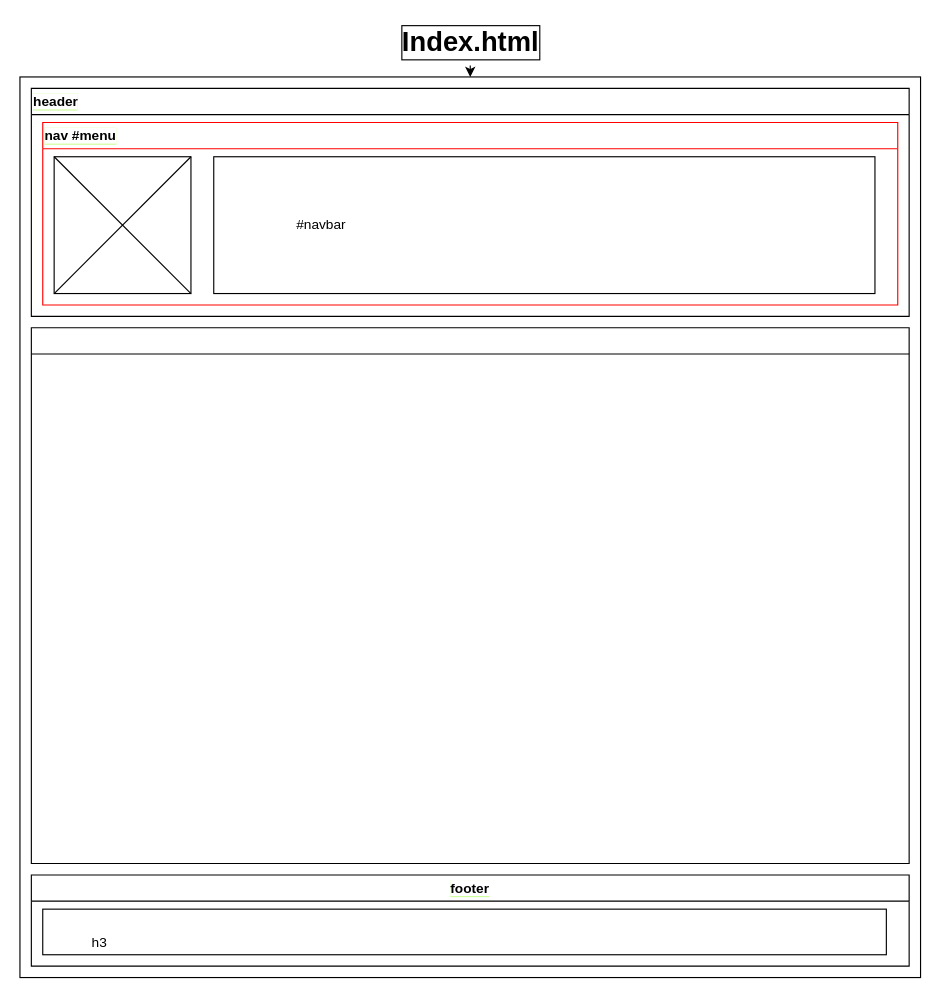
Image size: 941x998. Some labels were removed from this diagram. The centre of each missing label's shape, as x and y in pixels:
#logo: point 122,225
main: point 469,595
